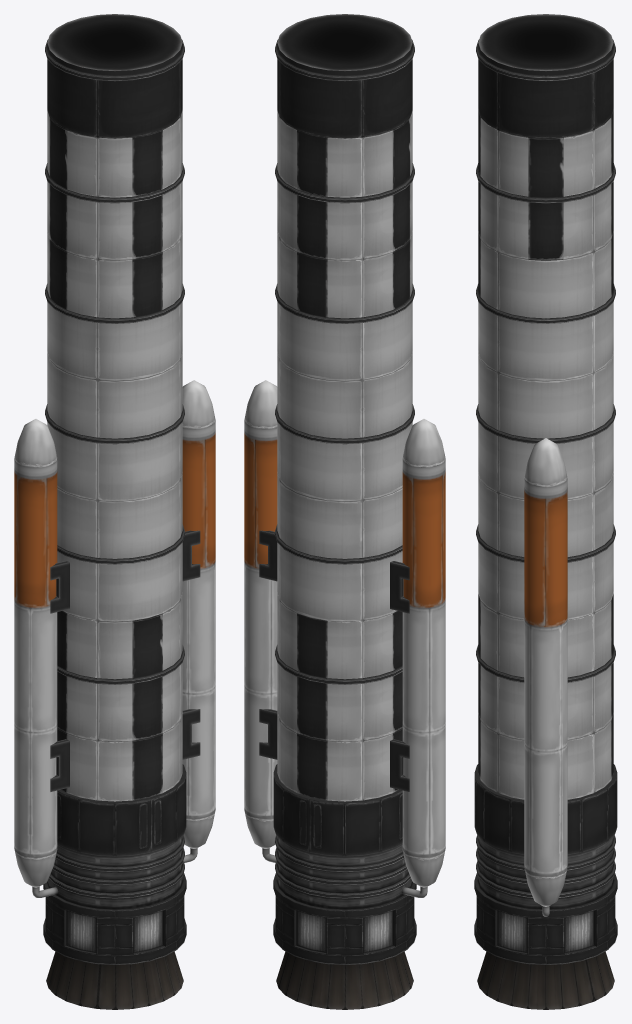
File: Titan_SRB_5segStack.dae
3 renders of one model, left to right at view 1: azimuth 30°, elevation 25°; view 2: azimuth 150°, elevation 25°; view 3: azimuth 270°, elevation 25°, orthographic.
Parts seen in each view (by area): view 1: SRB_5_Stick5; view 2: SRB_5_Stick5; view 3: SRB_5_Stick5.
Part boxes in pixels (x1,y1,x2,y2): SRB_5_Stick5: (14, 14, 215, 1009); SRB_5_Stick5: (244, 14, 445, 1009); SRB_5_Stick5: (474, 14, 617, 1009).
Size of the model in its own units: 3.13 by 14.35 by 1.98.
